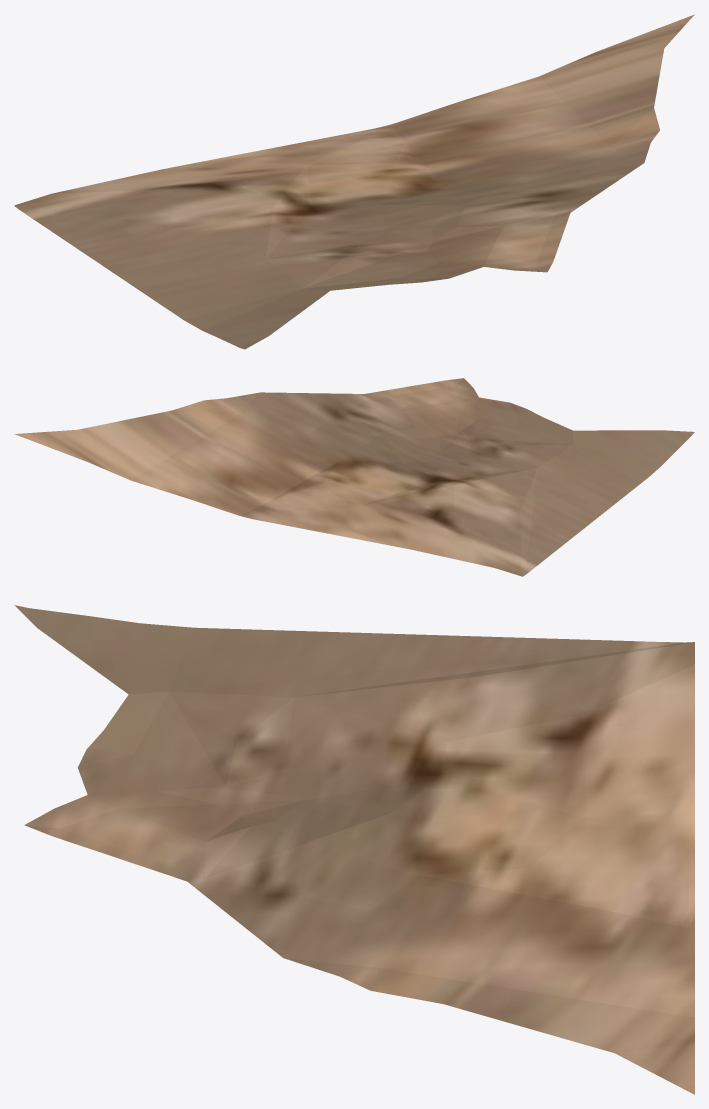
3 views of the same model, one above another, from view 1: azimuth 30°, elevation 25°; view 2: azimuth 150°, elevation 25°; view 3: azimuth 270°, elevation 25° (orthographic). The views are drawn at different scales.
Size of the model in its own units: 0.9326 by 0.0472 by 0.5478.
1 material, 1 textured.
